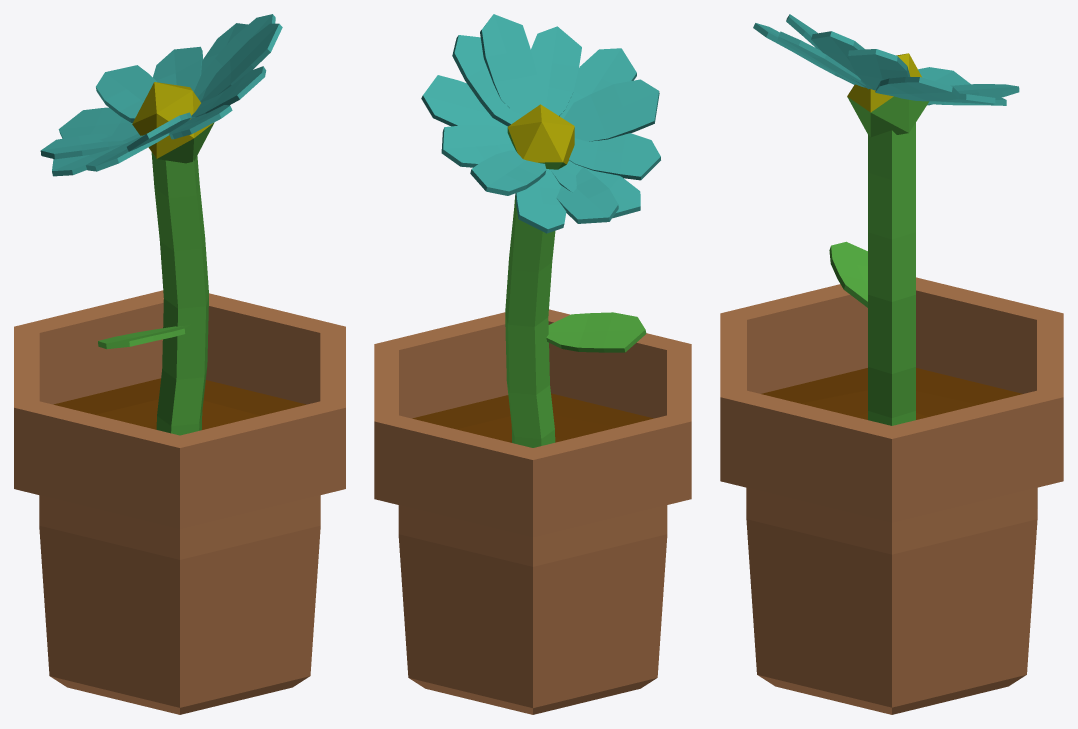
Rendered from FlowerPot.fbx.
3 views of the same model, side by side, from view 1: azimuth 30°, elevation 25°; view 2: azimuth 150°, elevation 25°; view 3: azimuth 270°, elevation 25° (orthographic). The views are drawn at different scales.
Parts seen in each view (by area): view 1: pCylinder1, pCylinder2, pCylinder3, pPlatonic1, pCube9, pCube1, pCube8, pCube10, pCube11, pCube12, pCube2, pCube13 (+5 smaller); view 2: pCylinder1, pCylinder2, pCylinder3, pCube4, pCube1, pCube13, pCube2, pPlatonic1, pCube5, pCube7, pCube11, pCube8 (+5 smaller); view 3: pCylinder1, pCylinder2, pCylinder3, pPlatonic1, pCube13, pCube11, pCube7, pCube1, pCube2, pCube9, pCube12.
Boxes of the visible parts, <box> form: pCylinder1: <box>14,290,345,714</box>; pCylinder2: <box>151,152,208,435</box>; pCylinder3: <box>53,378,306,429</box>; pPlatonic1: <box>132,82,214,163</box>; pCube9: <box>96,65,157,122</box>; pCube1: <box>200,23,282,102</box>; pCube8: <box>153,46,202,91</box>; pCube10: <box>58,107,135,138</box>; pCube11: <box>194,14,275,100</box>; pCube12: <box>40,133,127,159</box>; pCube2: <box>191,66,266,118</box>; pCube13: <box>98,324,191,349</box>; pCylinder1: <box>374,309,691,714</box>; pCylinder2: <box>505,195,555,447</box>; pCylinder3: <box>412,393,653,442</box>; pCube4: <box>563,79,659,141</box>; pCube1: <box>480,14,538,115</box>; pCube13: <box>546,312,646,352</box>; pCube2: <box>531,26,581,116</box>; pPlatonic1: <box>507,104,574,169</box>; pCube5: <box>569,133,660,180</box>; pCube7: <box>421,75,507,128</box>; pCube11: <box>452,35,523,126</box>; pCube8: <box>441,125,515,167</box>; pCylinder1: <box>720,277,1063,714</box>; pCylinder2: <box>868,123,915,425</box>; pCylinder3: <box>761,368,1022,419</box>; pPlatonic1: <box>847,53,929,137</box>; pCube13: <box>829,241,867,307</box>; pCube11: <box>848,49,910,89</box>; pCube7: <box>875,77,959,101</box>; pCube1: <box>811,31,875,90</box>; pCube2: <box>777,31,865,87</box>; pCube9: <box>950,84,1019,97</box>; pCube12: <box>918,67,970,105</box>.
Size of the model in its own units: 2.37 by 4.37 by 2.05.
